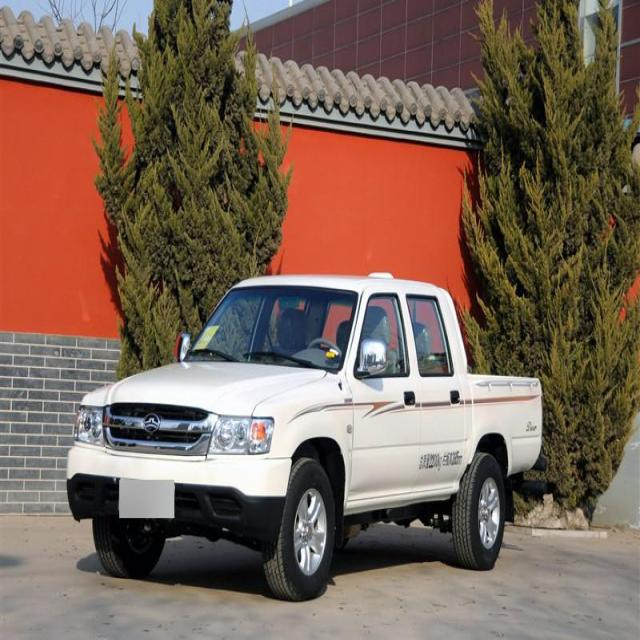door: (402, 290, 474, 498)
front_bumper: (65, 443, 292, 548)
front_glass: (185, 284, 359, 372)
front_left_side_door: (344, 281, 422, 503)
front_left_side_light: (204, 411, 276, 456)
front_left_side_mirror: (358, 336, 388, 378)
front_right_side_light: (74, 403, 106, 447)
front_right_side_mirror: (172, 332, 190, 361)
wheel: (263, 460, 335, 600), (450, 453, 504, 569), (89, 516, 165, 578)
